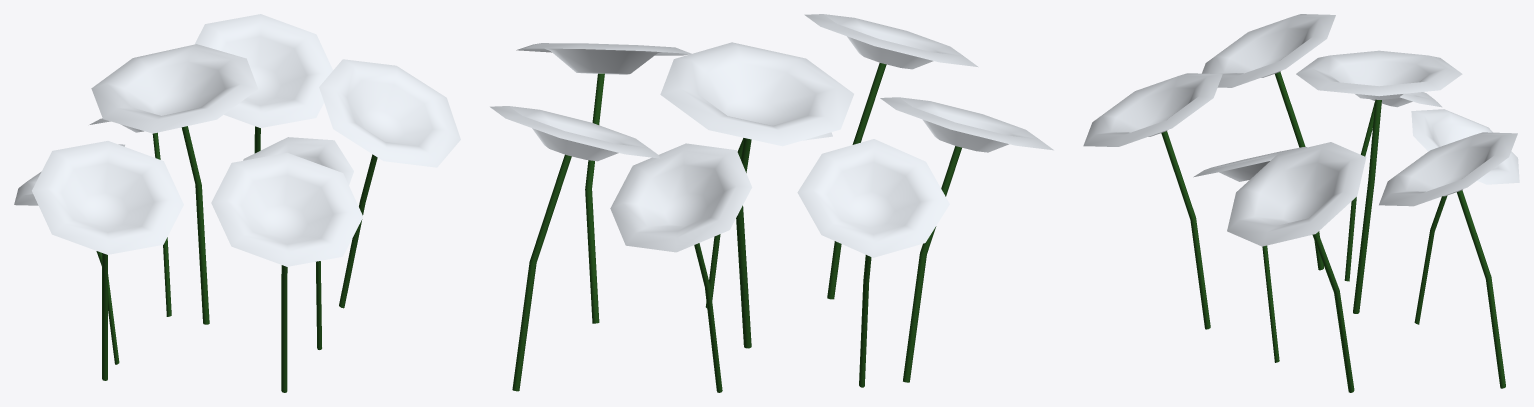
File: Flower_17.fbx
3 views of the same model, side by side, from view 1: azimuth 30°, elevation 25°; view 2: azimuth 150°, elevation 25°; view 3: azimuth 270°, elevation 25° (orthographic). The views are drawn at different scales.
Visible parts, largest first — view 1: Flower_17; view 2: Flower_17; view 3: Flower_17.
Part boxes in pixels (box(x1,y1,x2,y2)): Flower_17: box(14, 14, 460, 392); Flower_17: box(490, 14, 1053, 392); Flower_17: box(1083, 14, 1519, 392).
Bounding box in the file's own units: 93.88 × 54.58 × 83.27.
